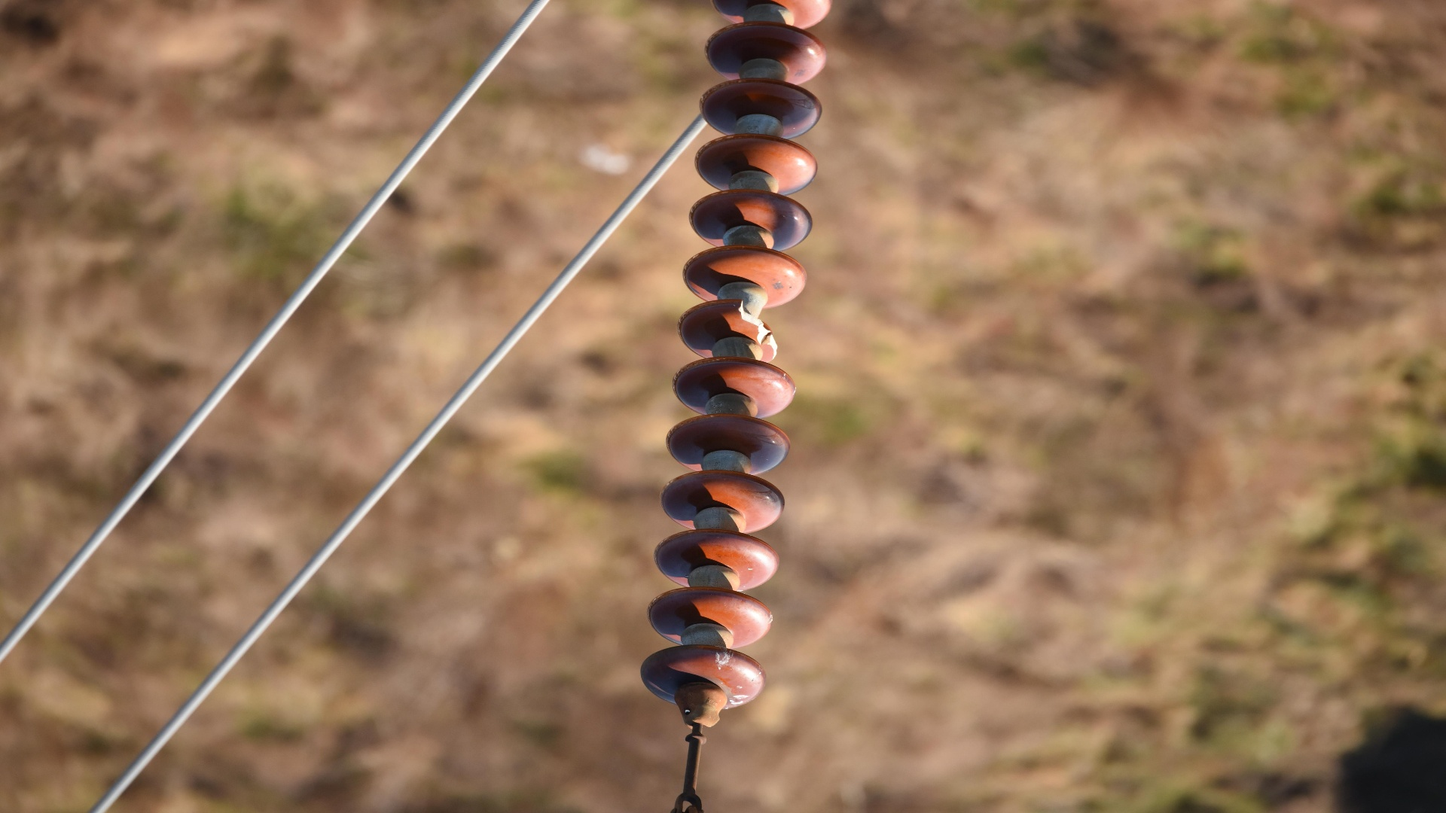insulator: (634, 1, 838, 720)
insulator_breakage: (736, 296, 780, 361)
